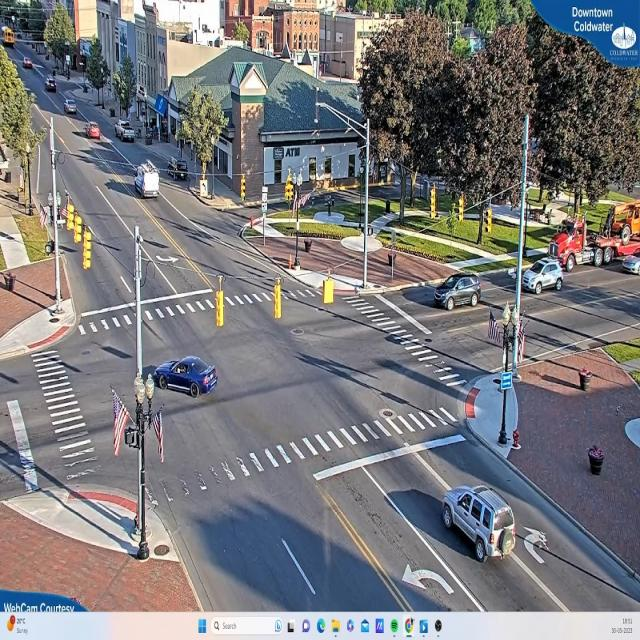car: (442, 485, 516, 563), (152, 358, 216, 400), (433, 275, 483, 309), (524, 258, 566, 295), (118, 121, 136, 145), (622, 256, 639, 275), (64, 99, 78, 116), (87, 124, 100, 140), (46, 80, 58, 92)
